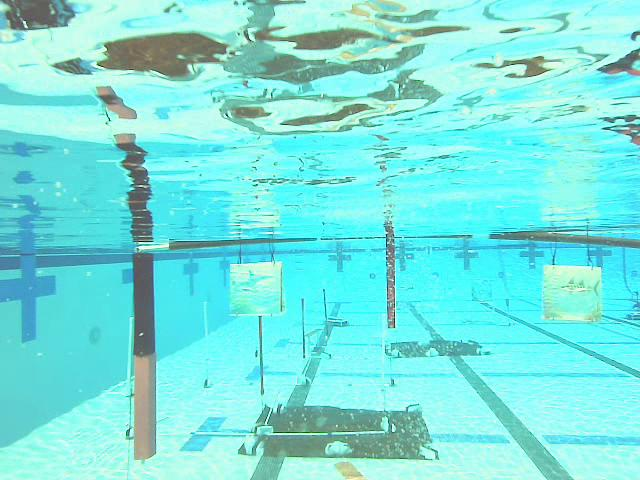black_poster: (323, 289, 329, 337), (303, 298, 306, 359)
divider: (387, 244, 395, 327)
left_gate_poster: (134, 252, 155, 459)
shark: (231, 262, 285, 316)
swordfish: (543, 265, 600, 321)
white_poster: (125, 317, 133, 439), (203, 301, 210, 387)
